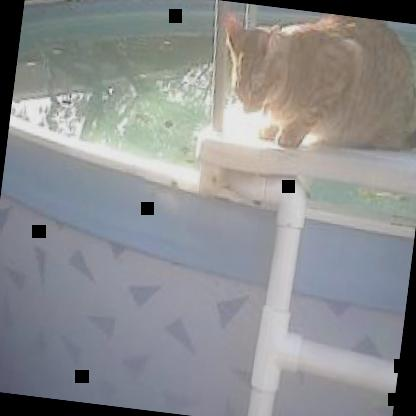cat: (210, 1, 415, 168)
